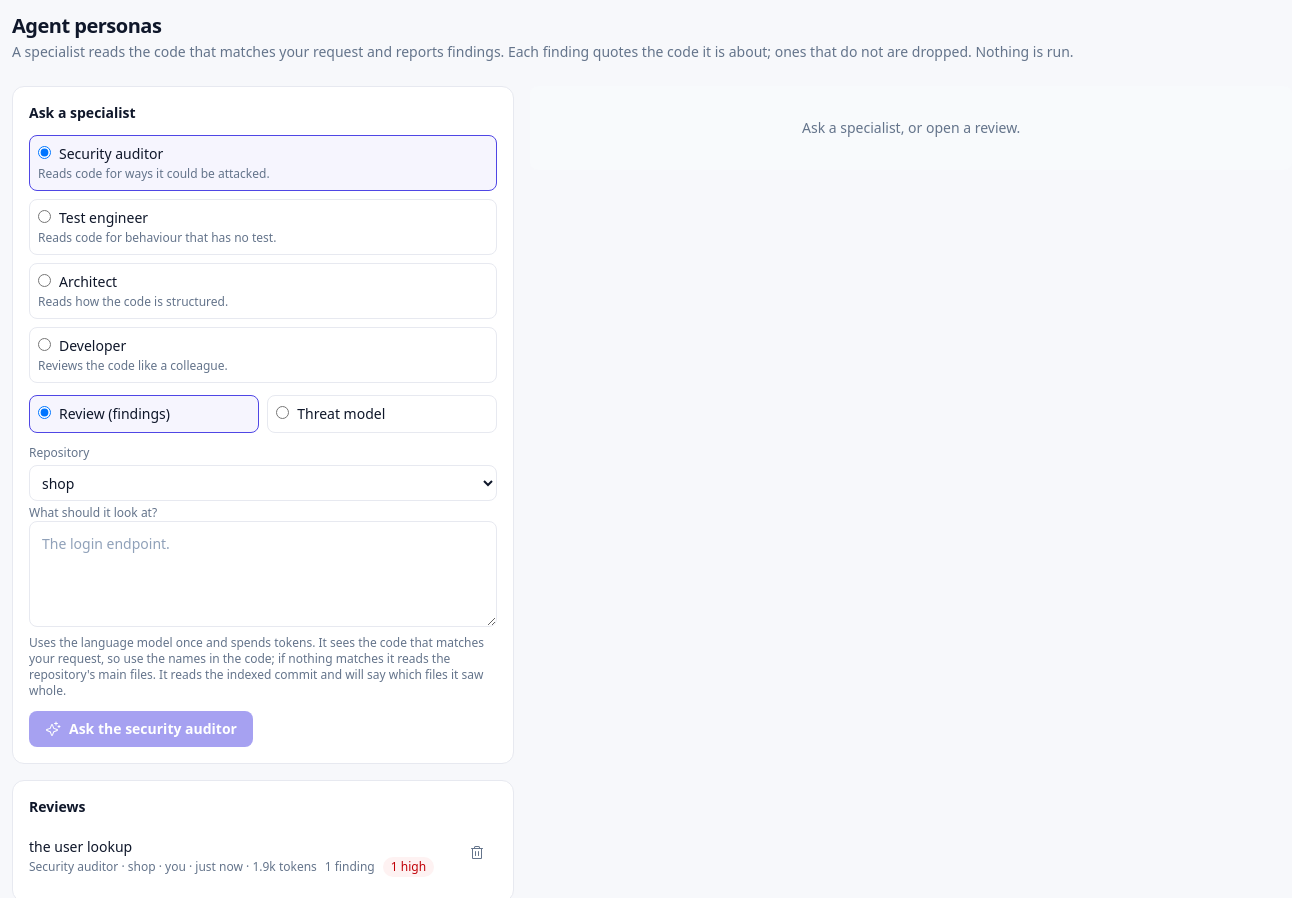
Agent personas › says why a review could not be made
Type "the login endpoint" into the text box named "What should it look at?".
click(263, 574); type("the login endpoint")  # box [29,521,497,627]
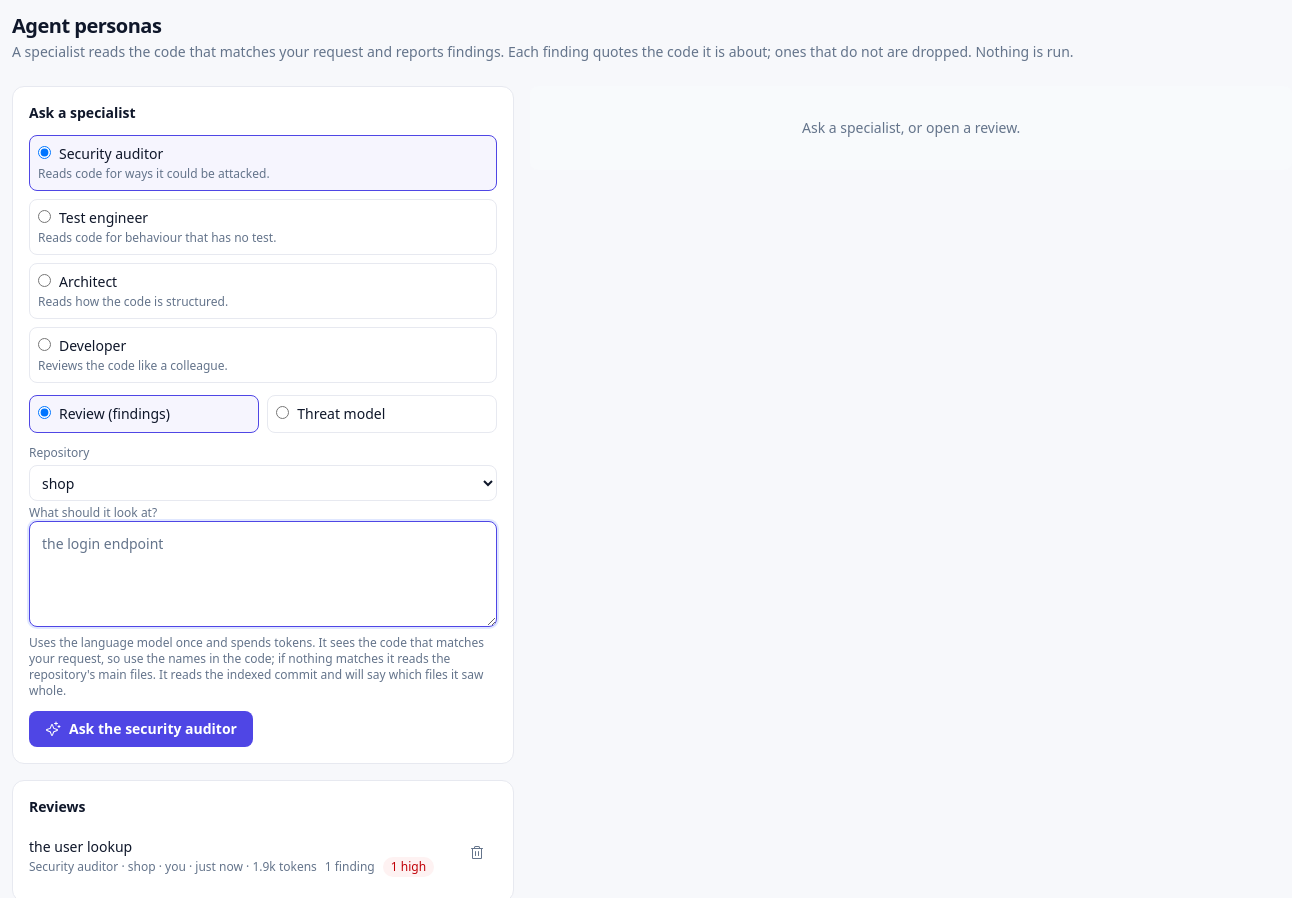
Click the button "Ask the security auditor".
click(141, 729)  # box [29,711,253,747]
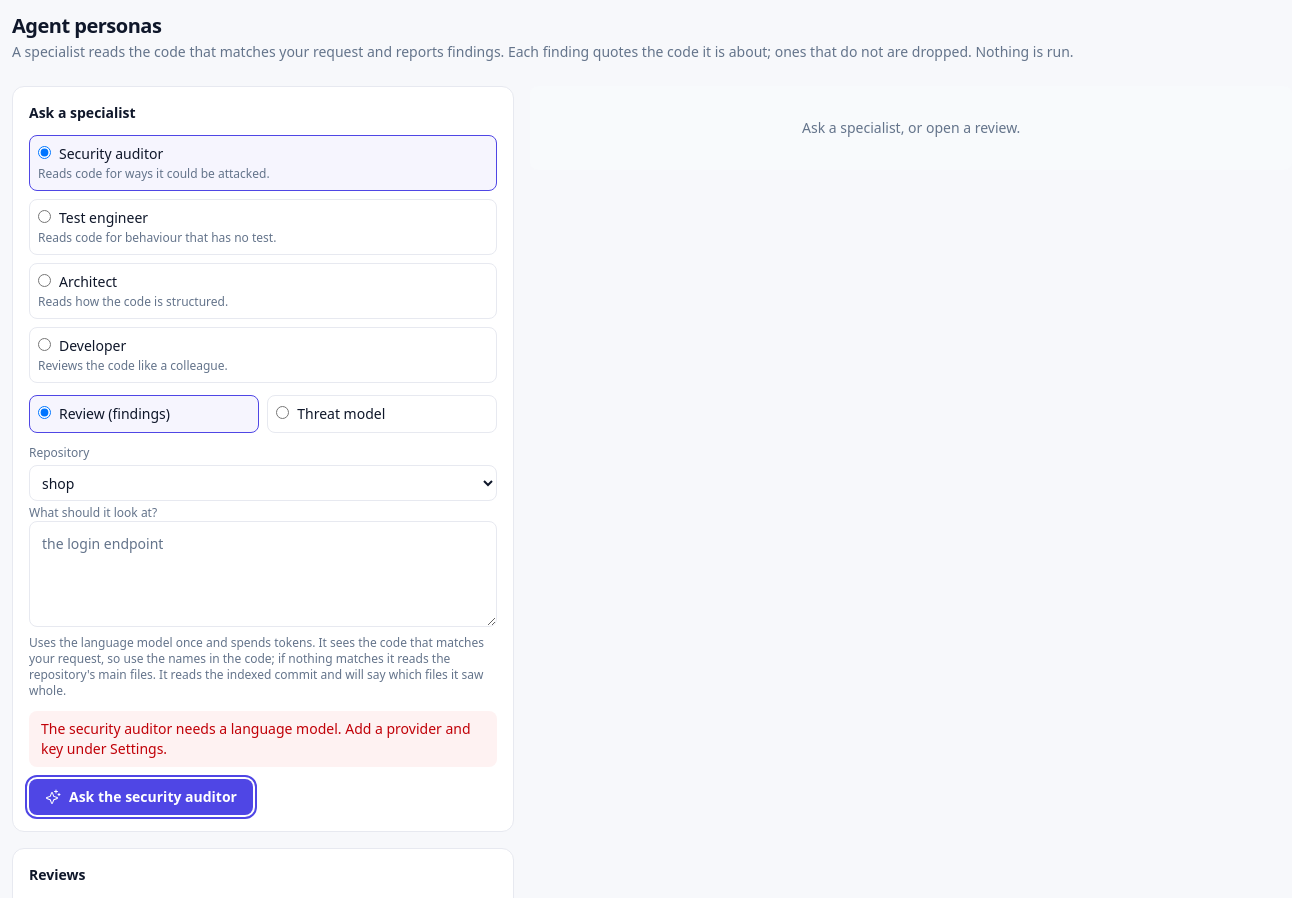
Result: the text "needs a language model" is shown at [41,719,471,758]
